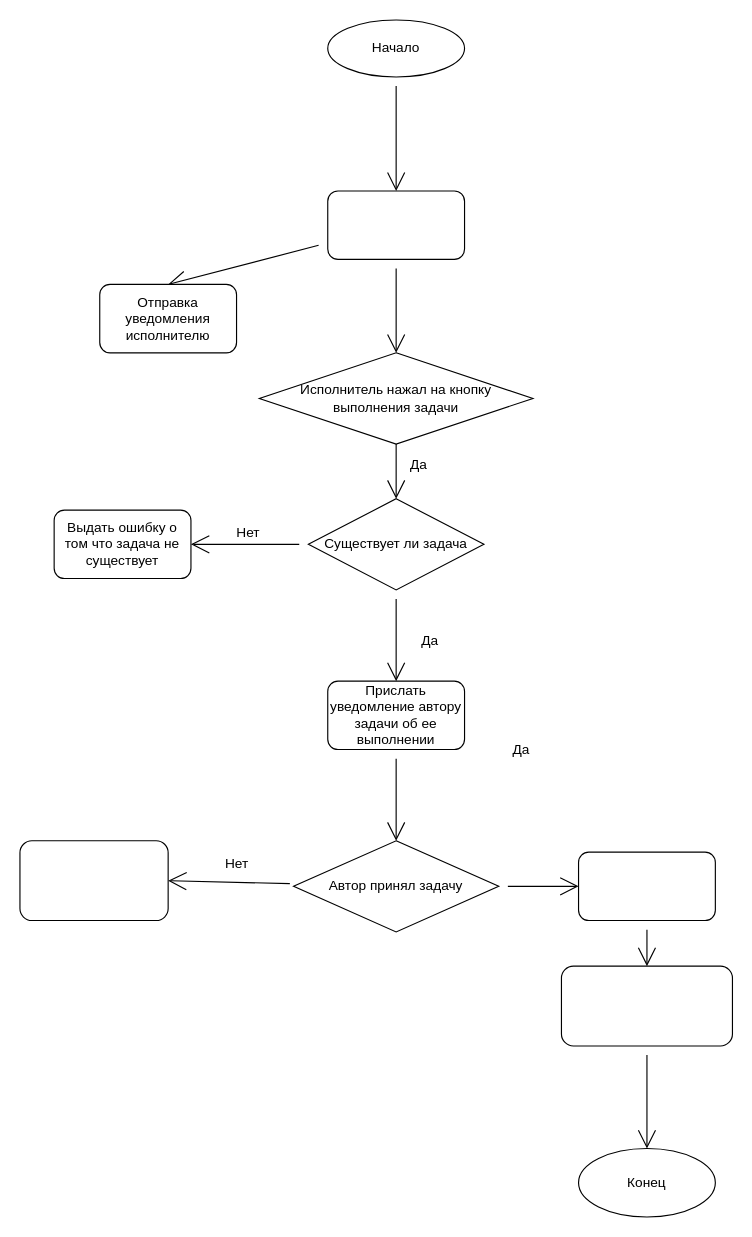
Image size: 752x1237. Some labels were removed from this diagram. The centre of each missing label's shape, as x and y in pixels:
"Назначить задаче статус выполнено" belongs at point 646,886.
"Отправить уведомление пользователю об успешном выполнении задачи" belongs at point 646,1005.
"Создание задачи со статусом новая" belongs at point 396,224.
"Уведомить пользователя что его задача не принята и нужно переделать" belongs at point 93,880.
